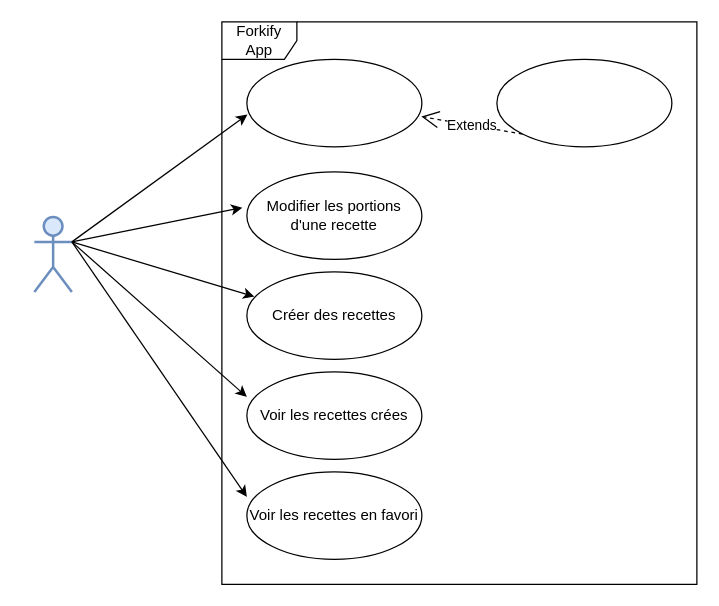
The diagram is 719 pixels wide and 606 high, and some of its shapes have lost their labels. Each missing label, with the centre of its shape:
"mettre une recette en favori" goes at (x=584, y=102).
"Rechercher des recettes" goes at (x=334, y=102).
"utilisateur" goes at (x=52, y=253).
